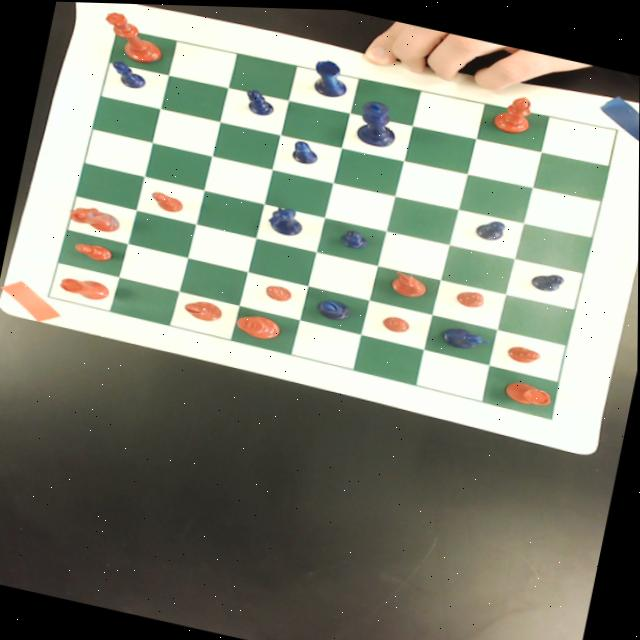B: (315, 294, 353, 321)
K: (354, 96, 403, 148)
N: (439, 320, 494, 352), (266, 201, 309, 237)
P: (107, 58, 150, 89), (529, 264, 571, 292), (242, 85, 278, 116), (473, 213, 507, 240), (290, 136, 321, 164), (339, 224, 369, 249)
R: (308, 53, 353, 99)
b: (491, 86, 537, 135), (183, 295, 225, 323)
k: (234, 309, 283, 340)
n: (67, 201, 123, 234), (388, 266, 431, 298)
p: (74, 239, 116, 263), (508, 340, 541, 363), (150, 189, 184, 211), (455, 284, 486, 307), (381, 310, 412, 332), (264, 281, 294, 301)
q: (99, 8, 170, 65)
r: (503, 375, 555, 407), (58, 271, 111, 302)
